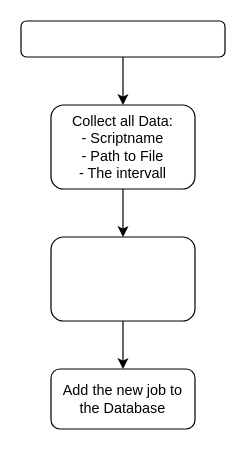
The diagram is 246 pixels wide and 450 high, and some of its shapes have lost their labels. The box of each missing label's shape, as (x1, y1, x2, y2) in pixels:
Calculate the next Run based on the Intervall as dateTime: (50, 236, 195, 321)
User Adds Script via Add UI: (20, 20, 225, 57)
